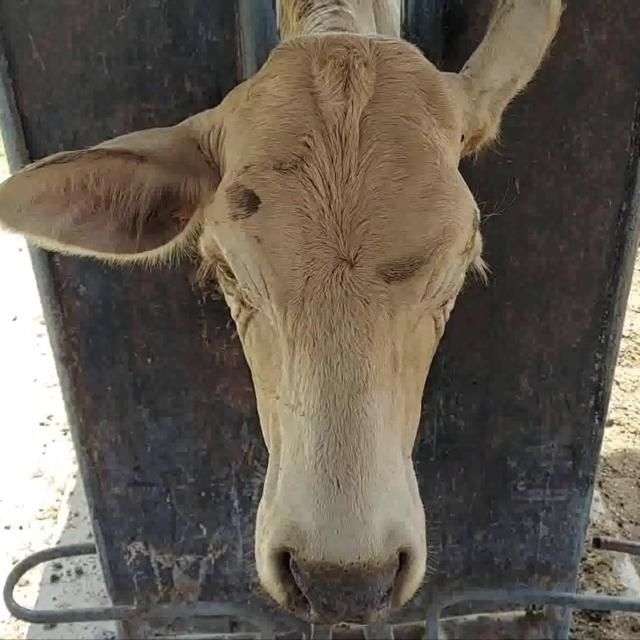cowFace: (197, 30, 478, 616)
